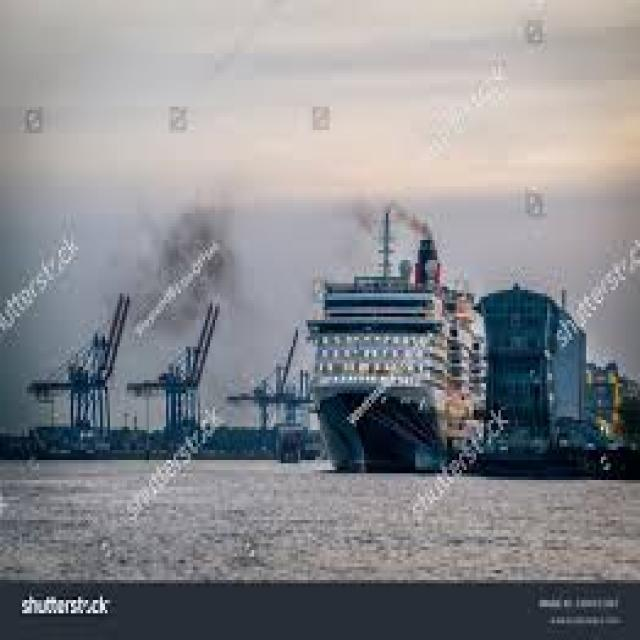PassengerShip: (270, 192, 556, 509)
